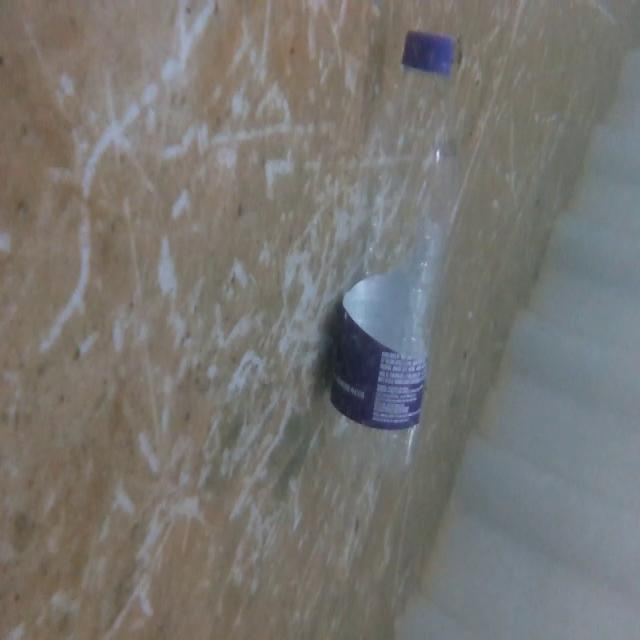plastic bottle: (322, 18, 465, 488)
